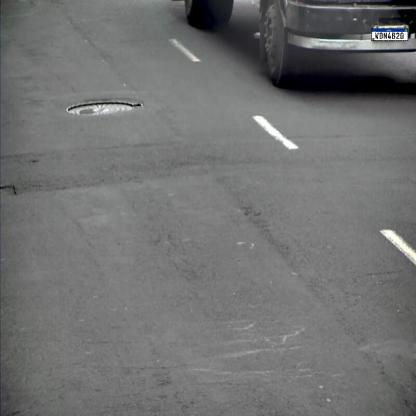PlacaM: (371, 28, 408, 41)
